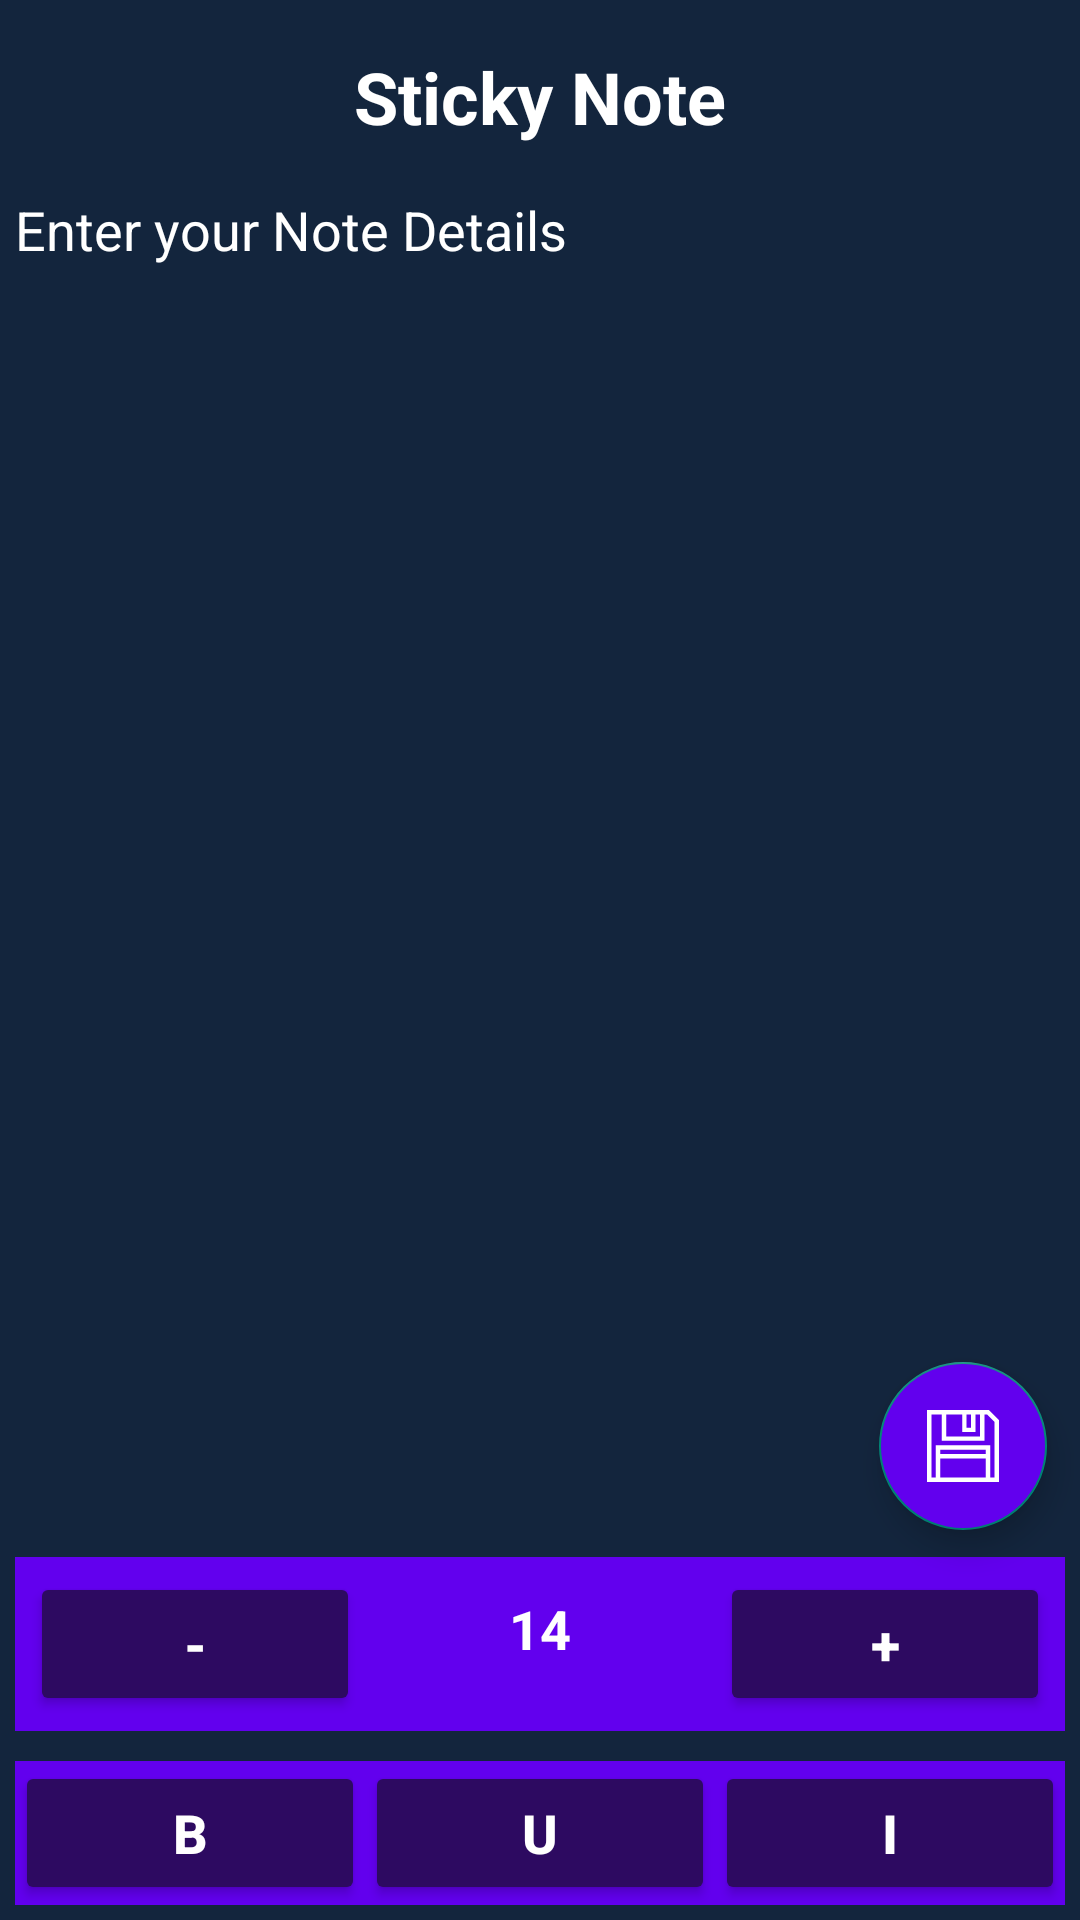

Where icons sit on this 1080*1920 app screen, as [x1=x1, y1=y1, x2=x2, y2=y2]:
save: [x1=879, y1=1362, x2=1047, y2=1530]
